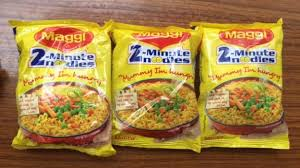maggi: (14, 23, 284, 150)
